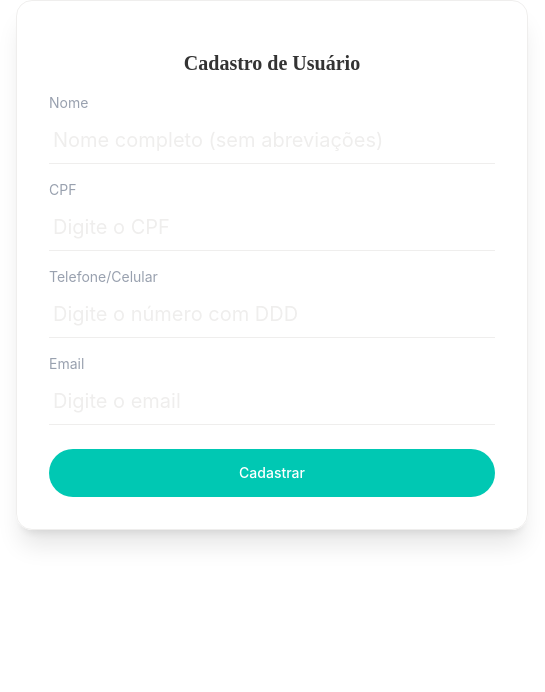
Test case: <RegisterForm /> › shows validation errors when fields are empty
The width and height of the screenshot is (545, 692).
Click the button at (272, 473), box [49, 449, 495, 497]
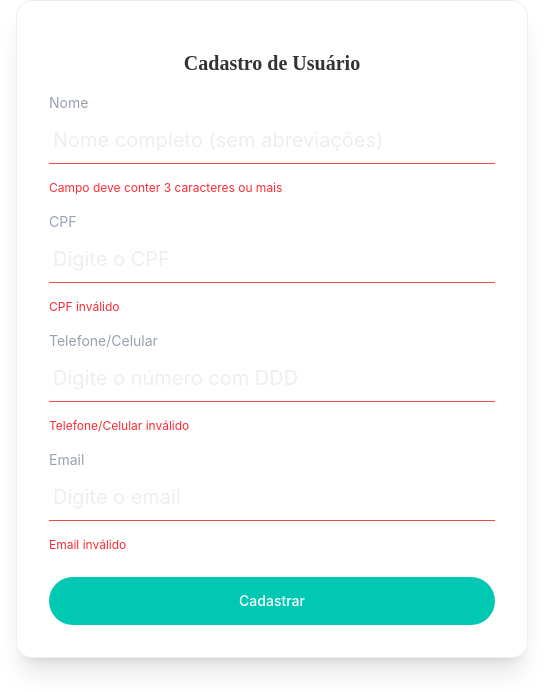
Check: the text "Campo deve conter 3 caracteres ou mais" is shown once, box [49, 180, 282, 195]
Check: the text "CPF inválido" is shown, box [49, 299, 120, 314]
Check: the text "Telefone/Celular inválido" is shown, box [49, 418, 189, 433]
